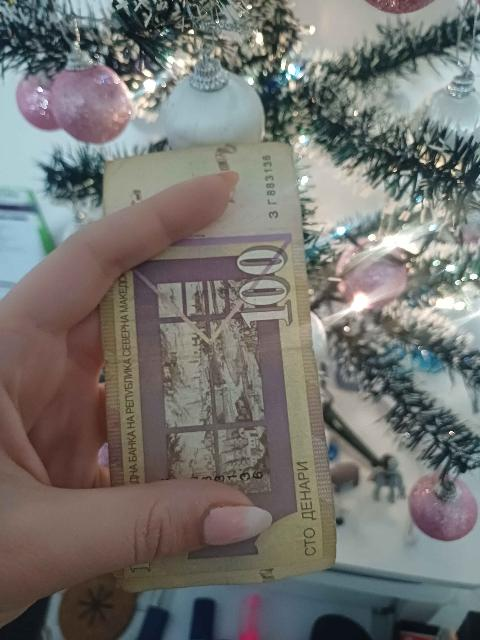100_note: (102, 144, 335, 590)
